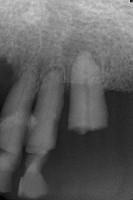Furcation Involvement: (62, 33, 102, 85)
